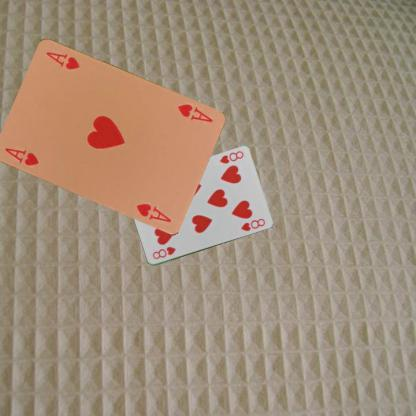8h: (217, 148, 244, 166), (150, 244, 176, 260)
Ah: (174, 101, 214, 124), (2, 145, 40, 168)
